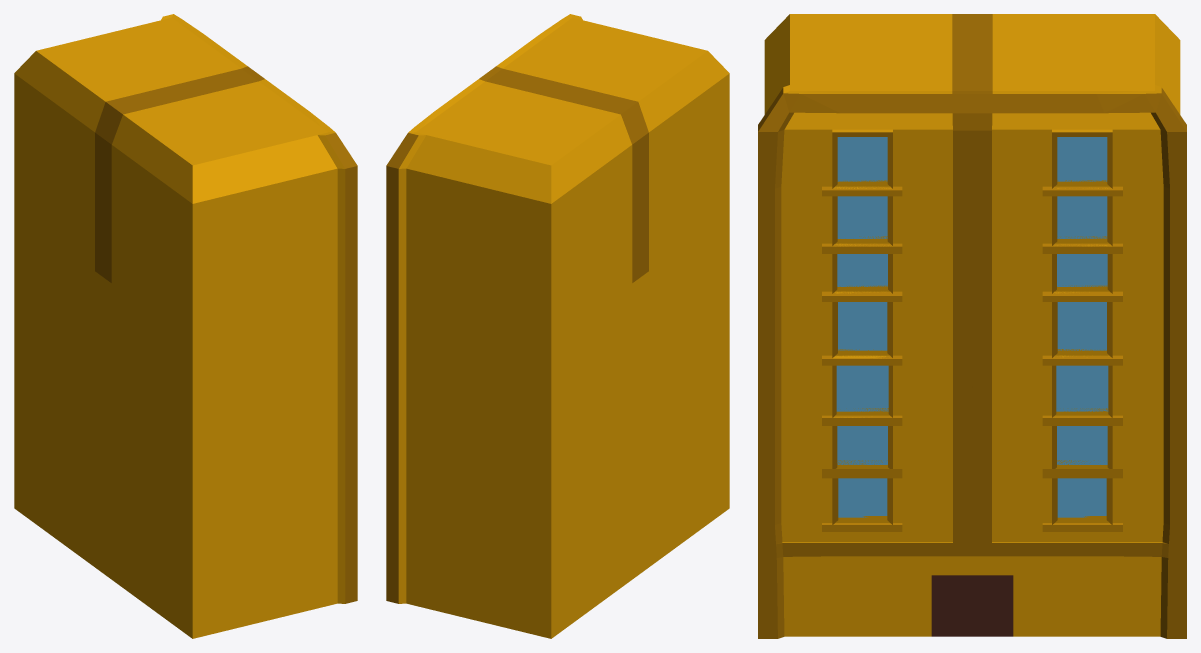
File: yellow building.fbx
3 renders of one model, left to right at view 1: azimuth 30°, elevation 25°; view 2: azimuth 150°, elevation 25°; view 3: azimuth 270°, elevation 25°, orthographic. The views are drawn at different scales.
Visible parts, largest first — view 1: Cube; view 2: Cube; view 3: Cube.
Part boxes in pixels (box(x1,y1,x2,y2)): Cube: box(14, 14, 357, 638); Cube: box(386, 14, 729, 638); Cube: box(758, 14, 1186, 638).
Bounding box in the file's own units: 3724 × 9377 × 6744.
